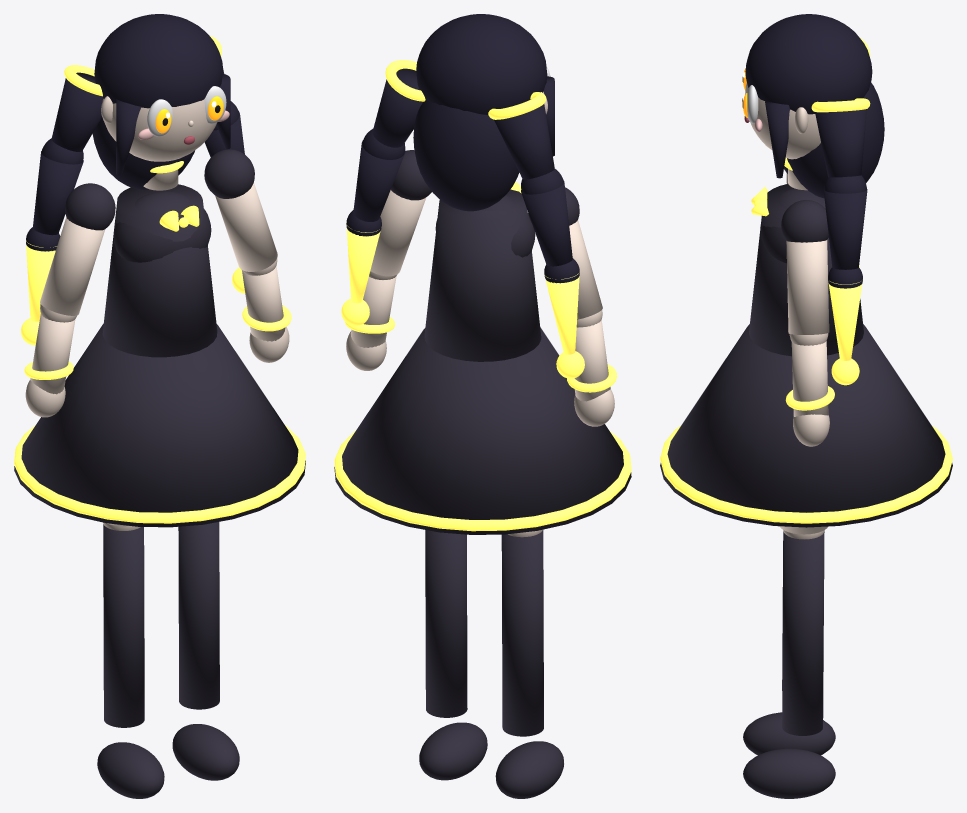
File: 6-amber.glb
3 renders of one model, left to right at view 1: azimuth 30°, elevation 25°; view 2: azimuth 150°, elevation 25°; view 3: azimuth 270°, elevation 25°, orthographic.
Parts seen in each view (by area): view 1: SKIRT_main, TORSO_dress, HAIR_skull, LEG_sock_L, LEG_sock_R, SKIRT_trim, ARM_upper_L, CHEST_main, ARM_upper_R, HEAD_main, LEG_shoe_L, LEG_shoe_R (+17 smaller); view 2: SKIRT_main, TORSO_dress, HAIR_skull, HAIR_back, LEG_sock_L, LEG_sock_R, SKIRT_trim, LEG_shoe_R, LEG_shoe_L, TAIL_L1, ARM_upper_R, TAIL_L2 (+21 smaller); view 3: SKIRT_main, HAIR_skull, LEG_sock_R, TORSO_dress, SKIRT_trim, ARM_upper_R, LEG_shoe_R, TAIL_R1, HAIR_back, TAIL_R2, LEG_shoe_L, ARM_fore_R (+11 smaller).
Part boxes in pixels (box(x1,y1,x2,y2)): SKIRT_main: box(14, 324, 305, 527); TORSO_dress: box(102, 184, 217, 357); HAIR_skull: box(94, 14, 222, 108); LEG_sock_L: box(103, 524, 144, 727); LEG_sock_R: box(178, 522, 219, 709); SKIRT_trim: box(14, 424, 305, 523); ARM_upper_L: box(40, 217, 105, 315); CHEST_main: box(113, 191, 211, 262); ARM_upper_R: box(215, 182, 277, 271); HEAD_main: box(102, 98, 217, 161); LEG_shoe_L: box(97, 742, 164, 798); LEG_shoe_R: box(172, 724, 239, 780); SKIRT_main: box(334, 327, 631, 534); TORSO_dress: box(424, 189, 541, 361); HAIR_skull: box(416, 14, 547, 114); HAIR_back: box(413, 100, 519, 211); LEG_sock_L: box(501, 530, 543, 736); LEG_sock_R: box(425, 530, 467, 717); SKIRT_trim: box(334, 430, 631, 531); LEG_shoe_R: box(419, 722, 487, 780); LEG_shoe_L: box(495, 741, 563, 798); TAIL_L1: box(494, 99, 554, 179); ARM_upper_R: box(370, 190, 426, 276); TAIL_L2: box(521, 181, 572, 266); SKIRT_main: box(660, 324, 952, 527); HAIR_skull: box(745, 14, 872, 114); LEG_sock_R: box(782, 531, 824, 735); TORSO_dress: box(749, 184, 863, 356); SKIRT_trim: box(660, 426, 952, 523); ARM_upper_R: box(786, 240, 829, 334); LEG_shoe_R: box(743, 748, 835, 798); TAIL_R1: box(815, 109, 866, 177); HAIR_back: box(787, 82, 884, 198); TAIL_R2: box(823, 189, 867, 269); LEG_shoe_L: box(743, 712, 835, 755); ARM_fore_R: box(791, 341, 828, 416).
Bounding box in the file's own units: 0.618 × 1.71 × 0.6.
